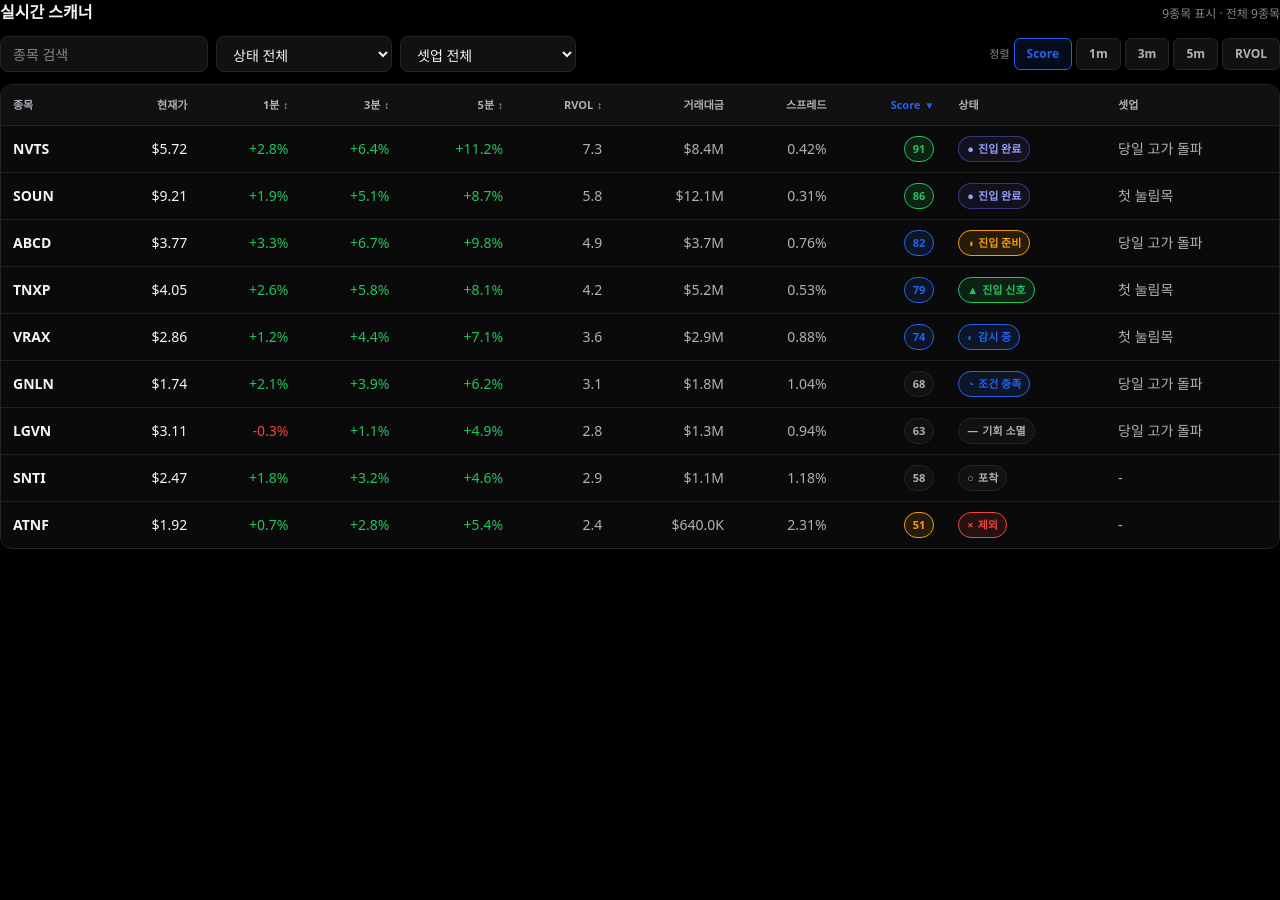
Strategy B scanner behaviour › opens a detail drawer with the lifecycle of the selected candidate
The image size is (1280, 900).
Click the button "NVTS".
click(31, 149)  # box [13,139,49,159]
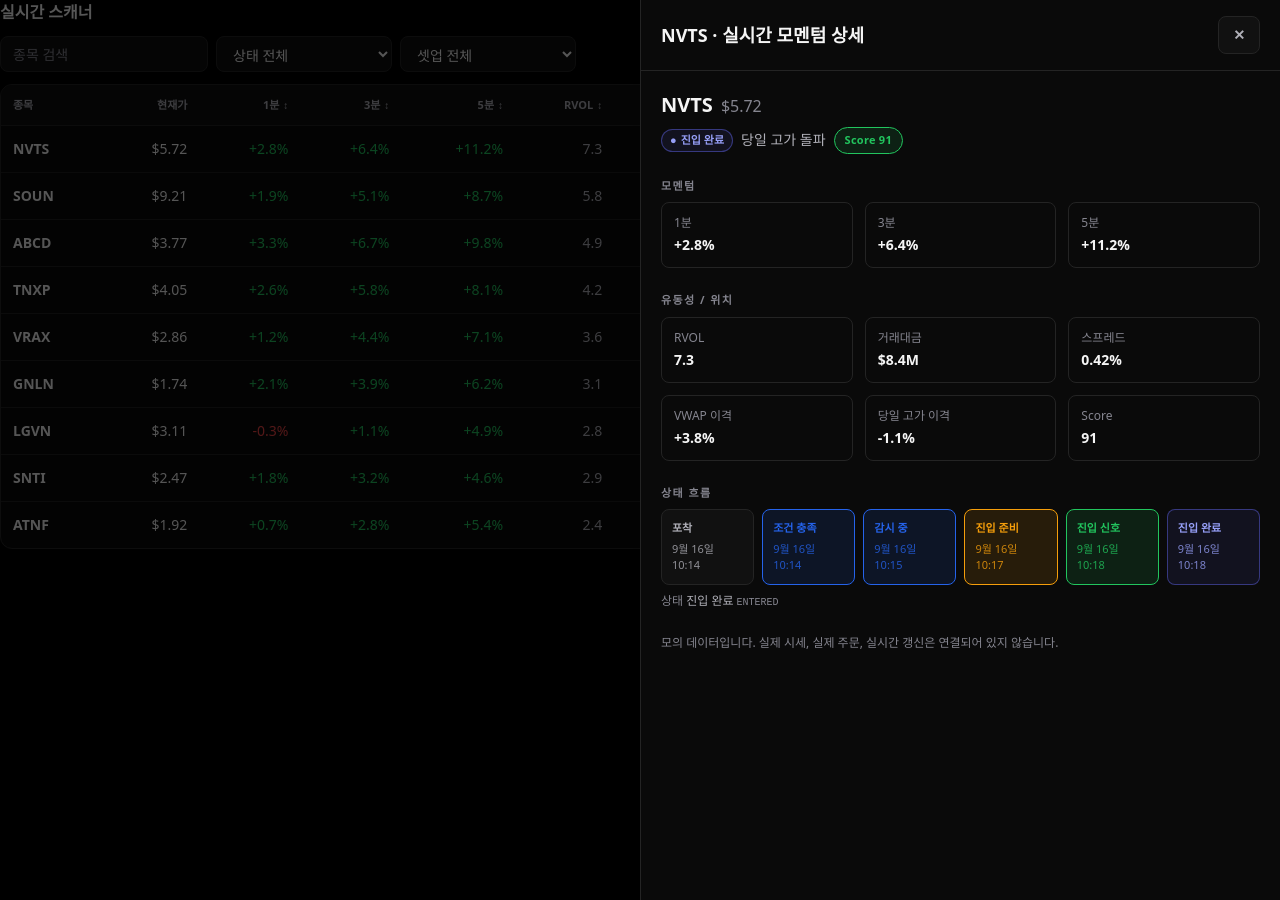
Expected: the heading "NVTS · 실시간 모멘텀 상세" is shown, [661,21,864,49]
Expected: the text "VWAP 이격" is shown, [674,406,732,424]
Expected: the text "진입 완료" is shown, [681,132,724,147]
